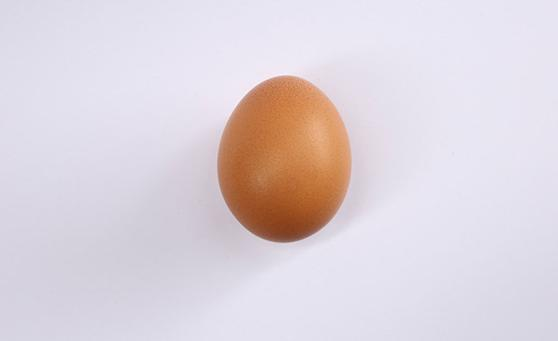egg: (212, 76, 354, 242)
